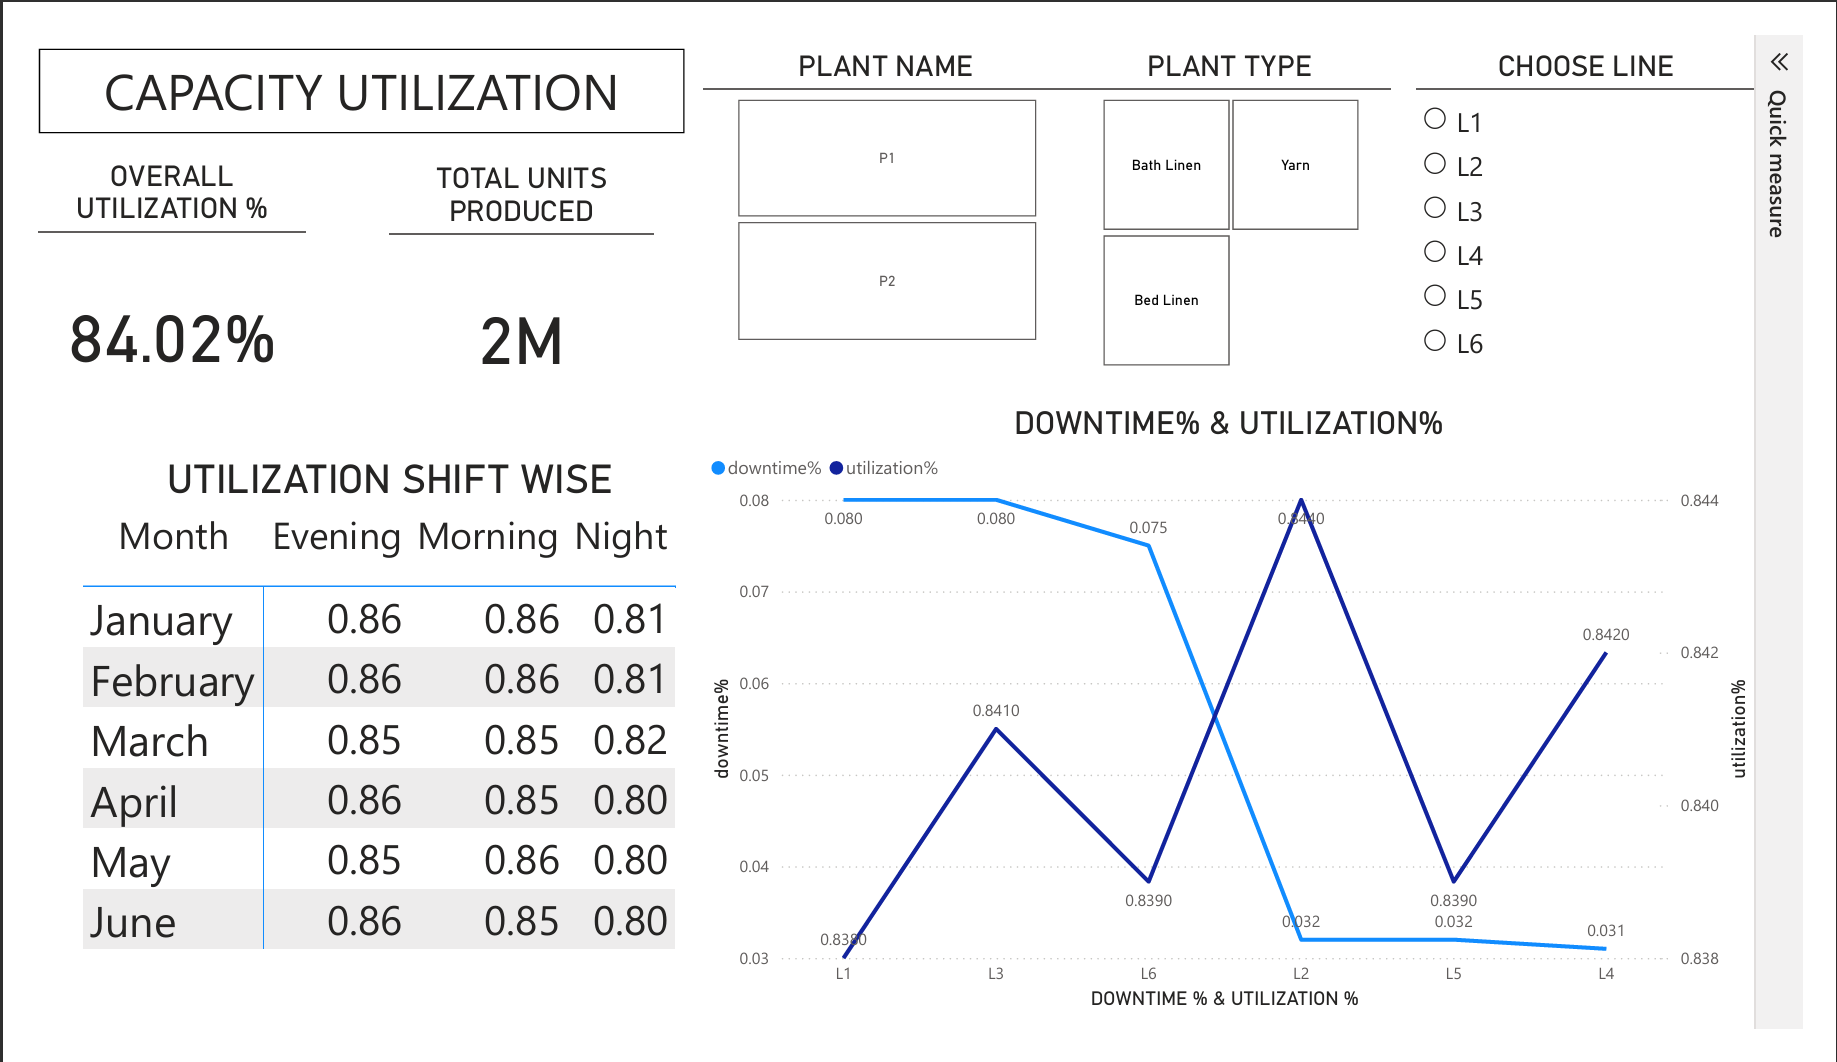

The dashboard page shown, as its layout file describes it:
{"tool":"powerbi","page":{"name":"Page 1","canvas":[1280,720],"ordinal":0},"visuals":[{"type":"pivotTable","title":"UTILIZATION SHIFT WISE","fields":{"Rows":["Query1.date.Variation.Date Hierarchy.Month"],"Values":["Avg(Query1.capacity_utilization_pct)"],"Columns":["Query1.shift_name"]},"box":[30.4,302.6,466.2,380.6],"z":0},{"type":"card","title":"OVERALL UTILIZATION %","fields":{"Values":["Query1.Overall Capacity Utilization %"]},"box":[1.8,82.1,199,200],"z":1000},{"type":"card","title":"TOTAL UNITS PRODUCED","fields":{"Values":["Sum(production_runs.actual_units)"]},"box":[262.5,84.1,197.5,199.2],"z":2000},{"type":"lineChart","title":"DOWNTIME% & UTILIZATION%","fields":{"Y":["Avg(utilization vs downtime.downtime_pct)"],"Category":["utilization vs downtime.line_id"],"Y2":["Avg(utilization vs downtime.utilization_pct)"]},"box":[496.7,265,783.3,455],"z":3000},{"type":"listSlicer","title":"CHOOSE LINE","fields":{"Values":["production_lines.line_id"]},"box":[1027.6,0,253.1,241.7],"z":4000},{"type":"slicer","title":"PLANT NAME","fields":{"Values":["production_lines.plant_id"]},"box":[496.7,0,272.1,222.6],"z":5000},{"type":"slicer","title":"PLANT TYPE","fields":{"Values":["production_lines.line_type"]},"box":[768.8,0,239.8,241.7],"z":6000},{"type":"textbox","box":[1.9,0,481.4,62.8],"z":6001}]}

Visuals, with their boxes on the page's 1280x720 design canvas (x1, y1, x2, y2). These are canvas units, not pixel positions in the 1837x1062 screenshot, which may show the page scaled, cropped or inside an application window:
"UTILIZATION SHIFT WISE" pivotTable: locate(30, 303, 497, 683)
"OVERALL UTILIZATION %" card: locate(2, 82, 201, 282)
"TOTAL UNITS PRODUCED" card: locate(262, 84, 460, 283)
"DOWNTIME% & UTILIZATION%" lineChart: locate(497, 265, 1280, 720)
"CHOOSE LINE" listSlicer: locate(1028, 0, 1281, 242)
"PLANT NAME" slicer: locate(497, 0, 769, 223)
"PLANT TYPE" slicer: locate(769, 0, 1009, 242)
textbox: locate(2, 0, 483, 63)
